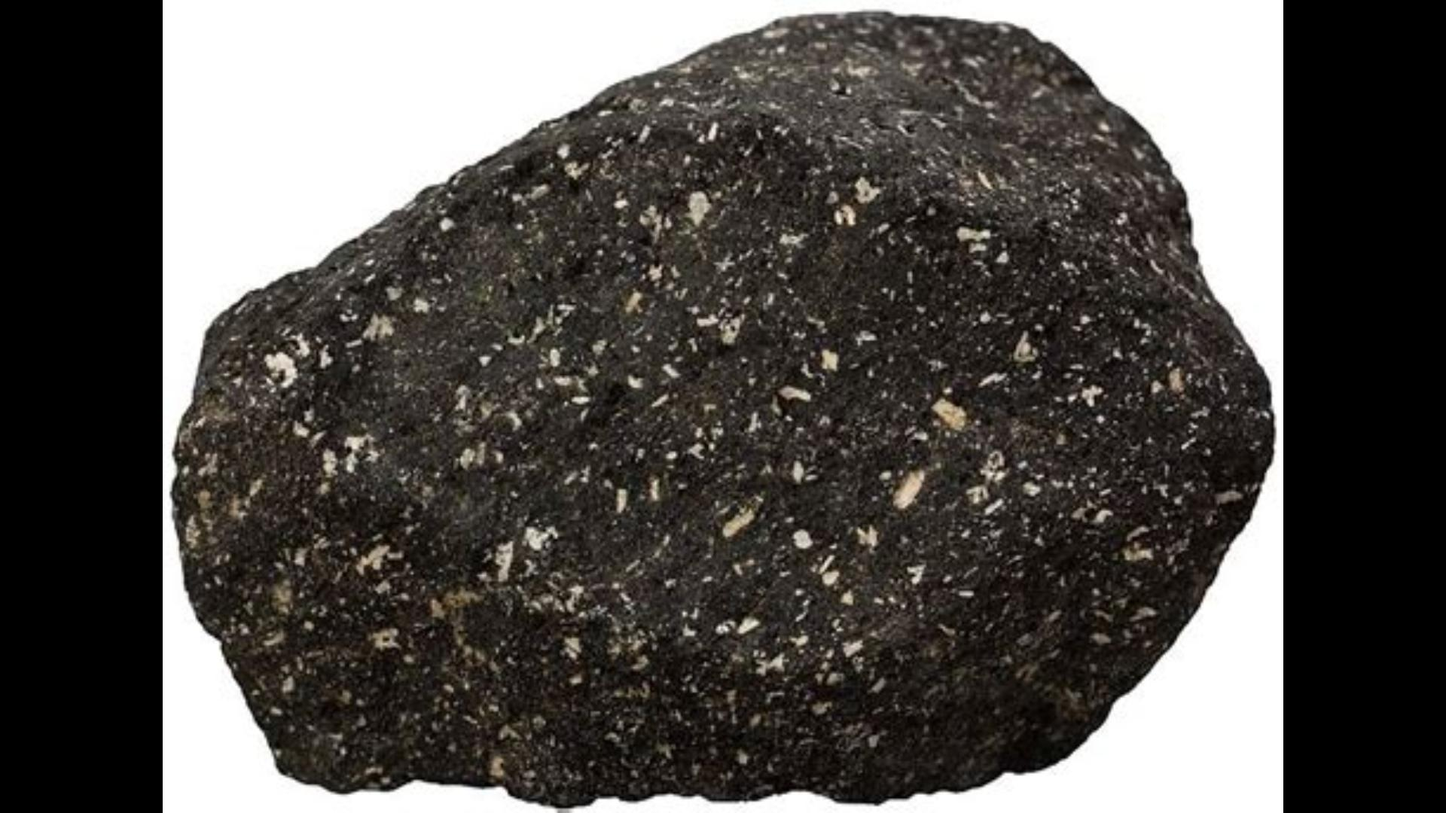rock: (172, 19, 1272, 801)
